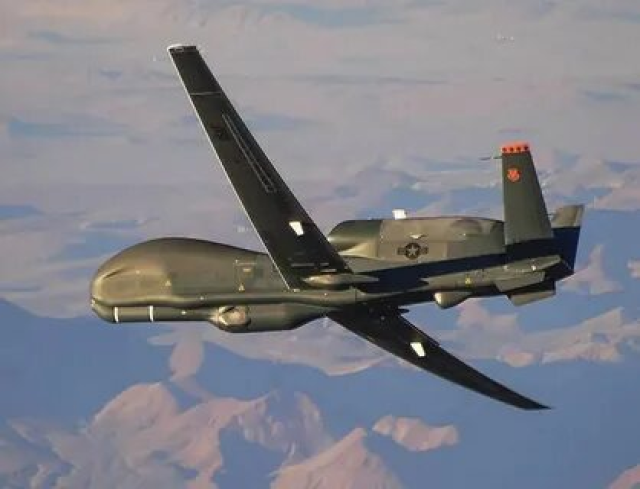military drone: (90, 44, 584, 410)
